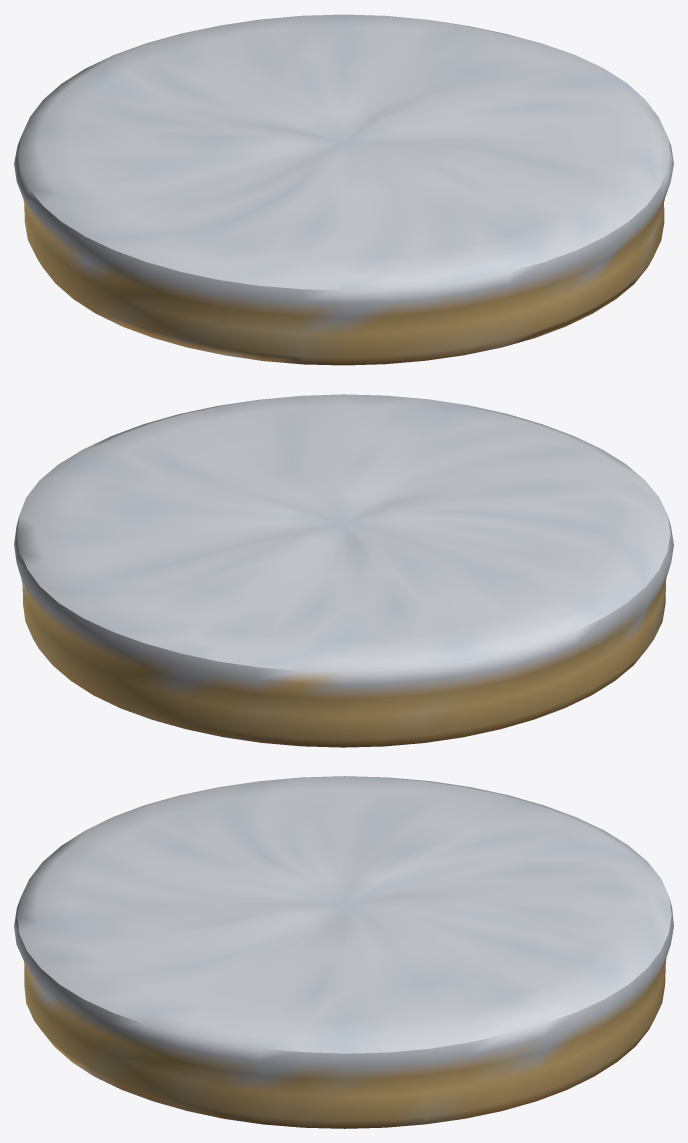
The model's file is snow_cake.glb.
3 renders of one model, top to bottom at view 1: azimuth 30°, elevation 25°; view 2: azimuth 150°, elevation 25°; view 3: azimuth 270°, elevation 25°, orthographic.
Visible parts, largest first — view 1: body; view 2: body; view 3: body.
Boxes of the visible parts, x1,y1,x2,y2 form: body: (14,14,673,365); body: (14,394,673,747); body: (14,776,673,1128).
Bounding box in the file's own units: 1.07 × 0.1799 × 1.07.
